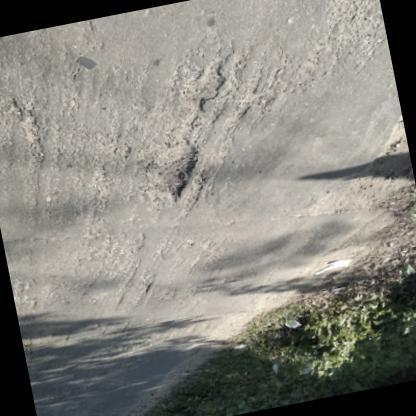pothole: (148, 134, 202, 203), (179, 56, 229, 121), (16, 109, 46, 167)
